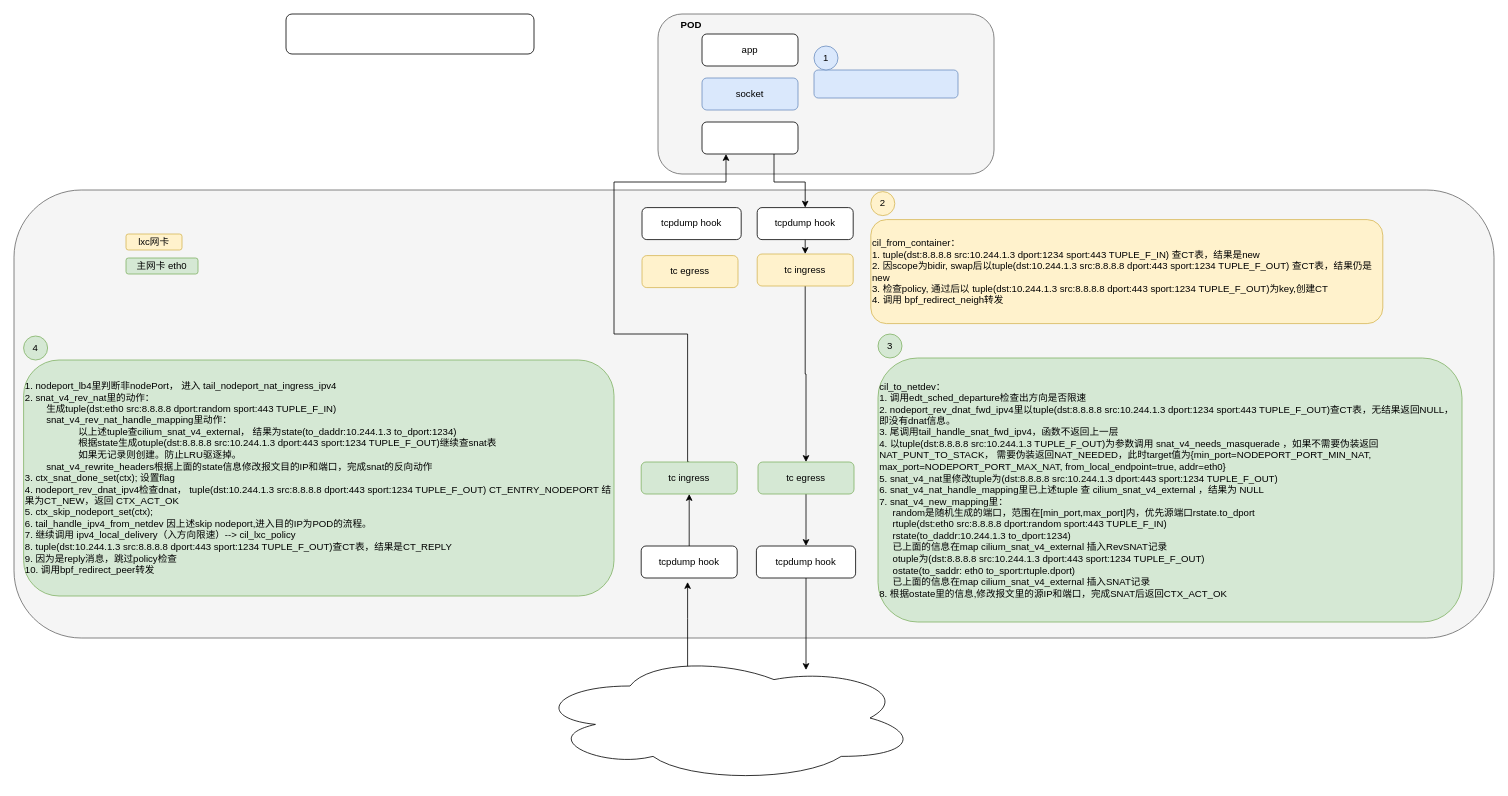
Image size: 1508x796. Some labels were removed from this diagram. The shapes that lost their labels are listed below. From the top down, each one's box as (x1, y1, x2, y2) in pixels, then its label:
(285, 13, 534, 54): 10.244.1.3:1234 --> 8.8.8.8:443 8.8.8.8 是集群外IP，包离开host时源信息会伪装
(813, 69, 958, 98): 无任何包内容修改行为
(701, 121, 798, 154): eth0
(13, 189, 1494, 638): HOST
(533, 653, 918, 782): Network
